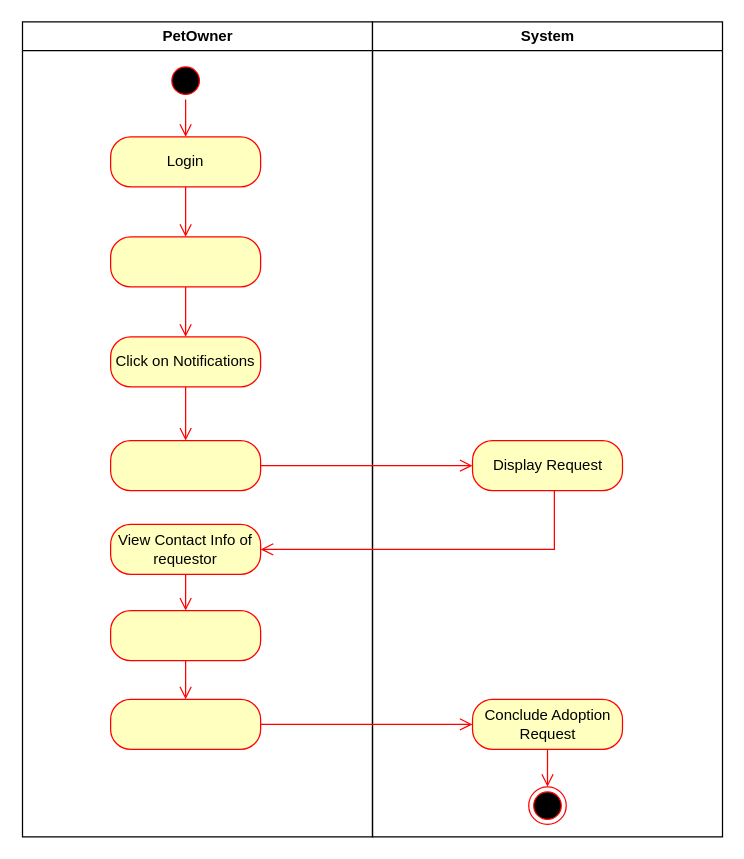
Image size: 744x859. Some labels were removed from this diagram. Each missing label, with the centre of its shape:
"Click on Accept/Reject Button" belongs at point 185,723.
"Click on Adoption Request" belongs at point 185,465.
"Contact Requestor" belongs at point 185,635.
"View Dashboard" belongs at point 185,261.
